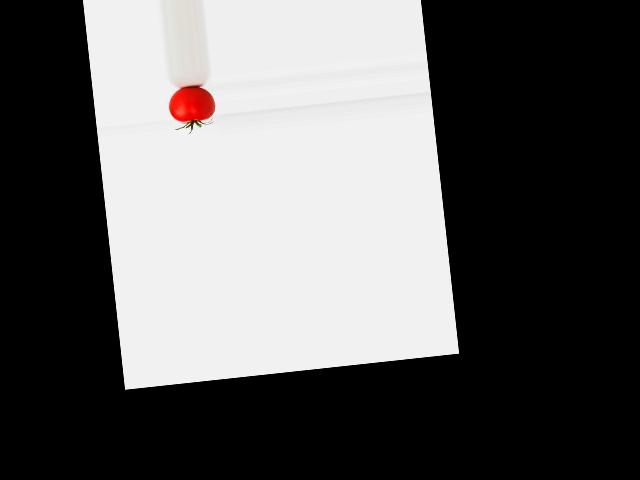tomato: (166, 85, 216, 123)
